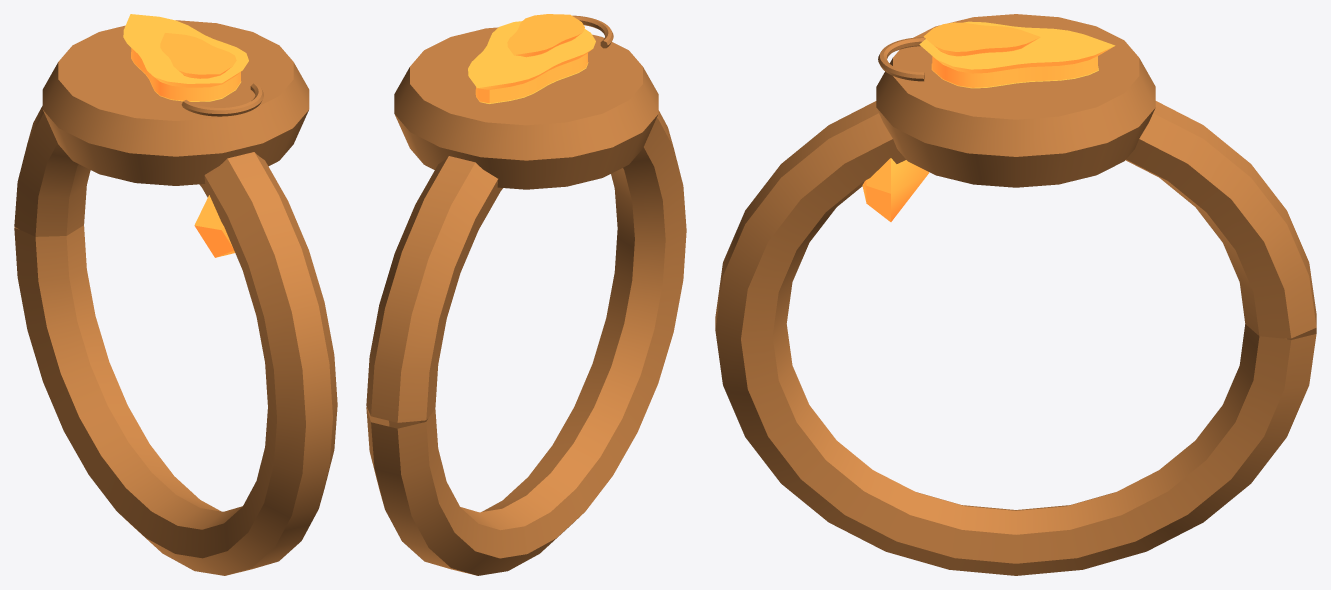
File: asc_ashborn_archmage_accessory.glb
3 renders of one model, left to right at view 1: azimuth 30°, elevation 25°; view 2: azimuth 150°, elevation 25°; view 3: azimuth 270°, elevation 25°, orthographic. The views are drawn at different scales.
Visible parts, largest first — view 1: asc_ashborn_archmage_accessory; view 2: asc_ashborn_archmage_accessory; view 3: asc_ashborn_archmage_accessory.
Boxes of the visible parts, box(x1,y1,x2,y2) form: asc_ashborn_archmage_accessory: box(14, 14, 337, 575); asc_ashborn_archmage_accessory: box(366, 14, 686, 575); asc_ashborn_archmage_accessory: box(715, 14, 1316, 575).
Size of the model in its own units: 0.068 by 0.1409 by 0.1442.
